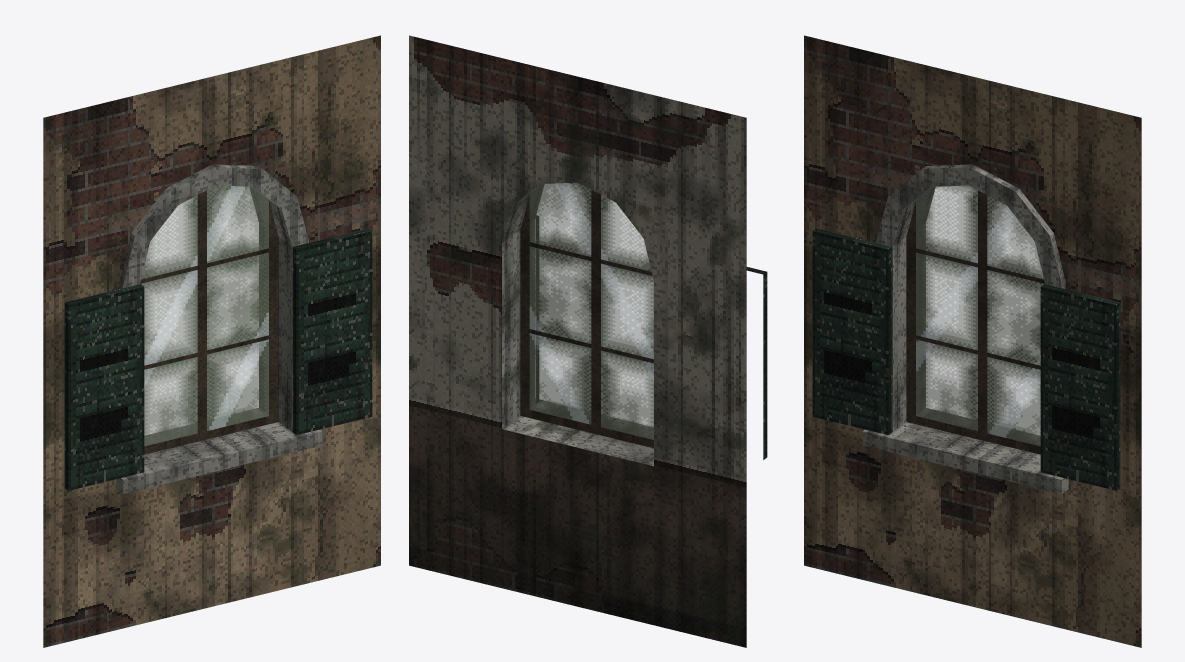
The model's file is ext_window_arch.gltf.
3 views of the same model, side by side, from view 1: azimuth 30°, elevation 25°; view 2: azimuth 150°, elevation 25°; view 3: azimuth 330°, elevation 25° (orthographic).
Parts seen in each view (by area): view 1: ext_window_arch; view 2: ext_window_arch; view 3: ext_window_arch.
Boxes of the visible parts, x1=… form: ext_window_arch: x1=43, y1=35, x2=380, y2=647; ext_window_arch: x1=409, y1=35, x2=767, y2=647; ext_window_arch: x1=804, y1=35, x2=1141, y2=647.
Size of what is drawn, in the model's own units: 2 by 3 by 0.41.
Materials: 5 (5 with a texture image).
